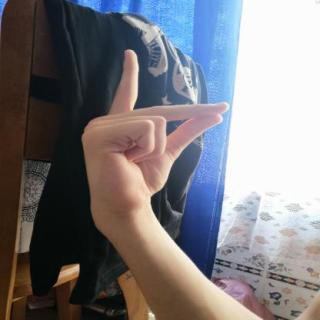TAA: (71, 42, 240, 226)
